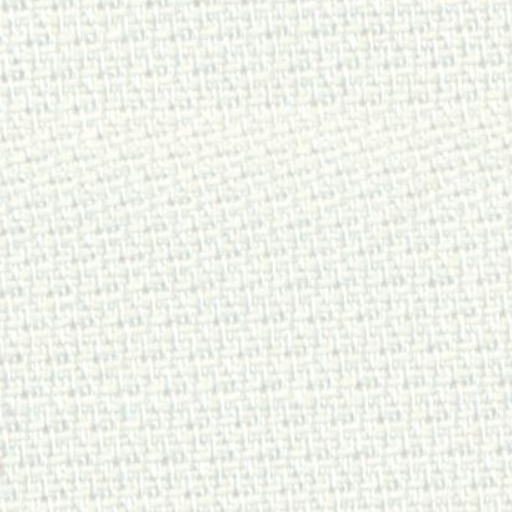TuoSha: (21, 71, 493, 347)
